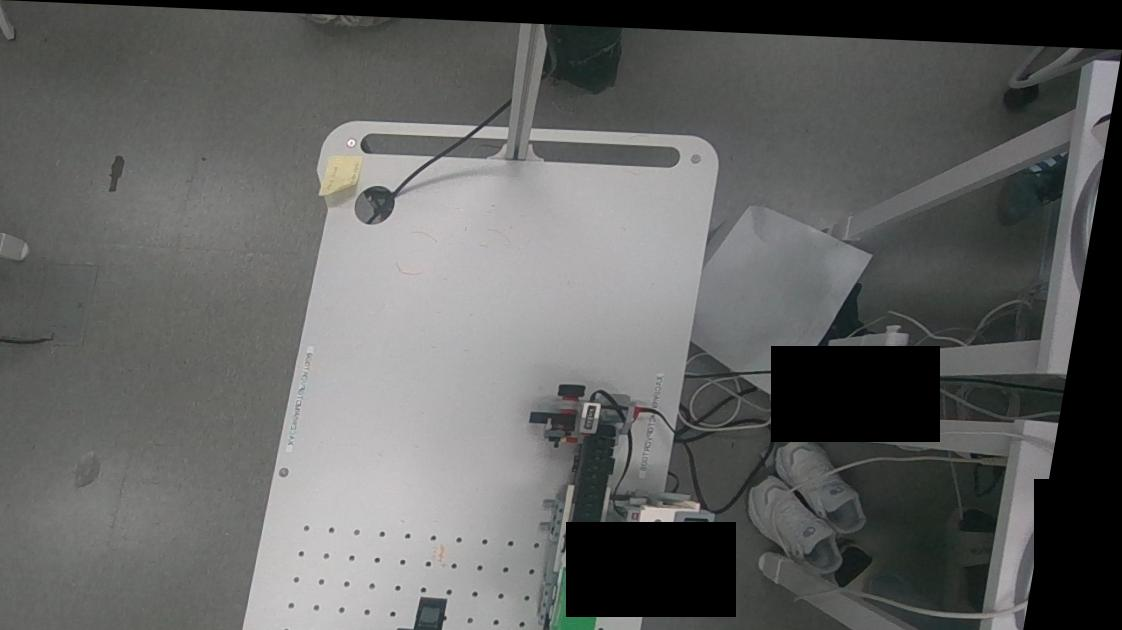truck: (537, 526, 630, 630)
